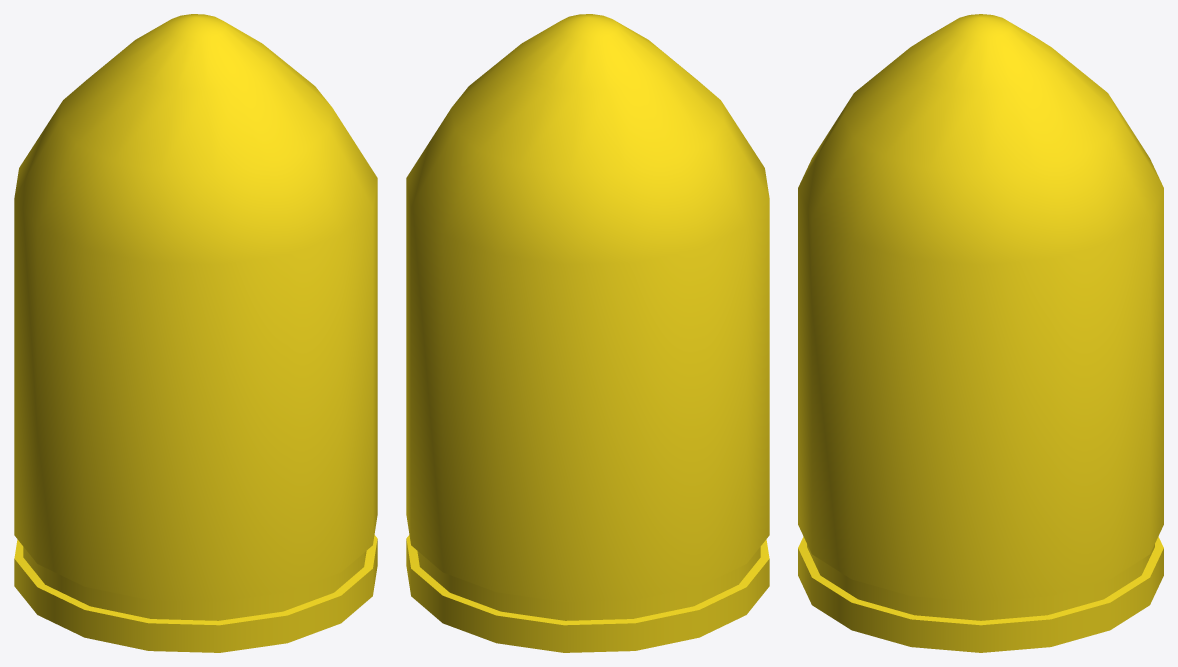
Rendered from BulletPickup.fbx.
The picture shows the model from 3 angles, left to right: view 1: azimuth 30°, elevation 25°; view 2: azimuth 150°, elevation 25°; view 3: azimuth 270°, elevation 25°; orthographic projection.
Parts seen in each view (by area): view 1: Cylinder; view 2: Cylinder; view 3: Cylinder.
Boxes of the visible parts, x1,y1,x2,y2 form: Cylinder: (14,14,377,652); Cylinder: (406,14,769,652); Cylinder: (798,14,1163,652).
Bounding box in the file's own units: 69.68 × 117 × 69.68.
